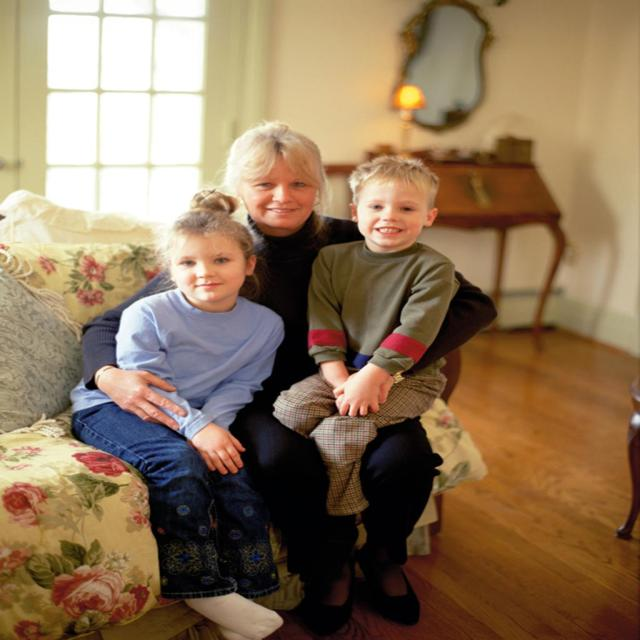Face: (147, 217, 282, 305), (322, 163, 444, 256), (224, 138, 322, 249)
